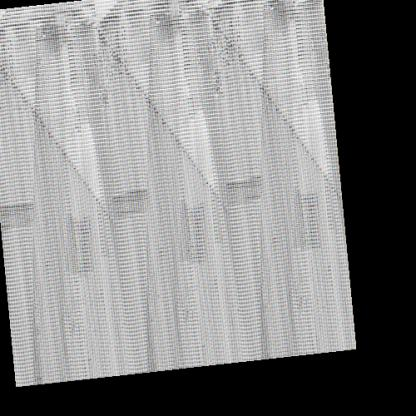Damage: (188, 149, 270, 203), (86, 174, 152, 226)
